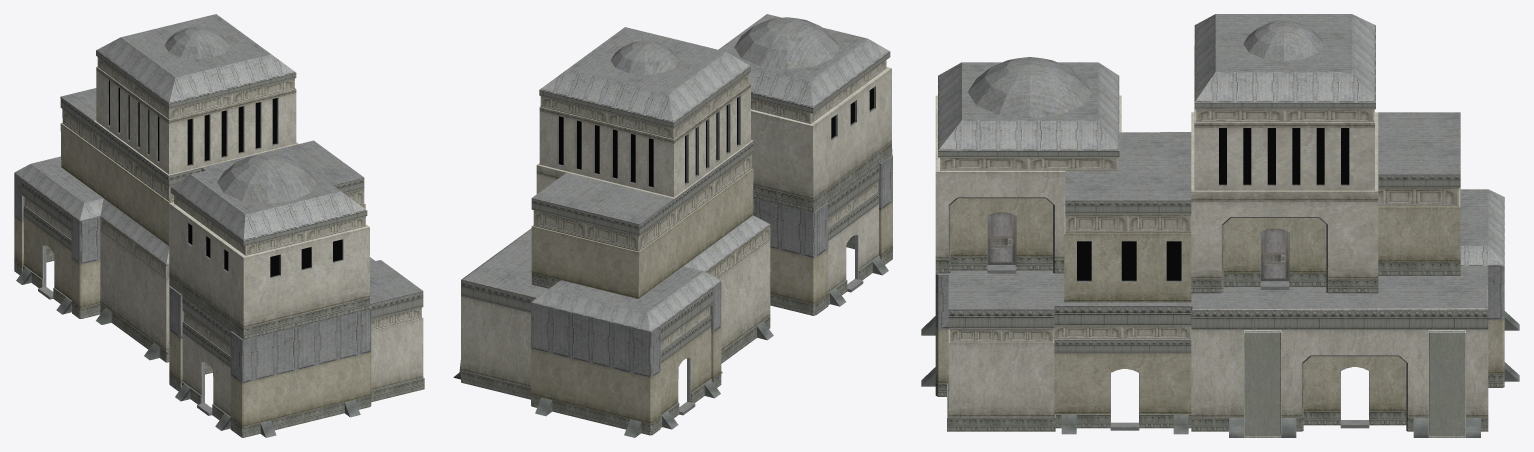
The model's file is thm_corl_imprv_historic_32x16_s02_r0_mesh_l0.fbx.
The picture shows the model from 3 angles, left to right: view 1: azimuth 30°, elevation 25°; view 2: azimuth 150°, elevation 25°; view 3: azimuth 270°, elevation 25°; orthographic projection. The views are drawn at different scales.
Visible parts, largest first — view 1: mesh_node; view 2: mesh_node; view 3: mesh_node.
Boxes of the visible parts, x1,y1,x2,y2 form: mesh_node: (14, 14, 424, 437); mesh_node: (453, 14, 892, 437); mesh_node: (921, 14, 1519, 437).
Size of the model in its own units: 15.81 by 20.71 by 32.
